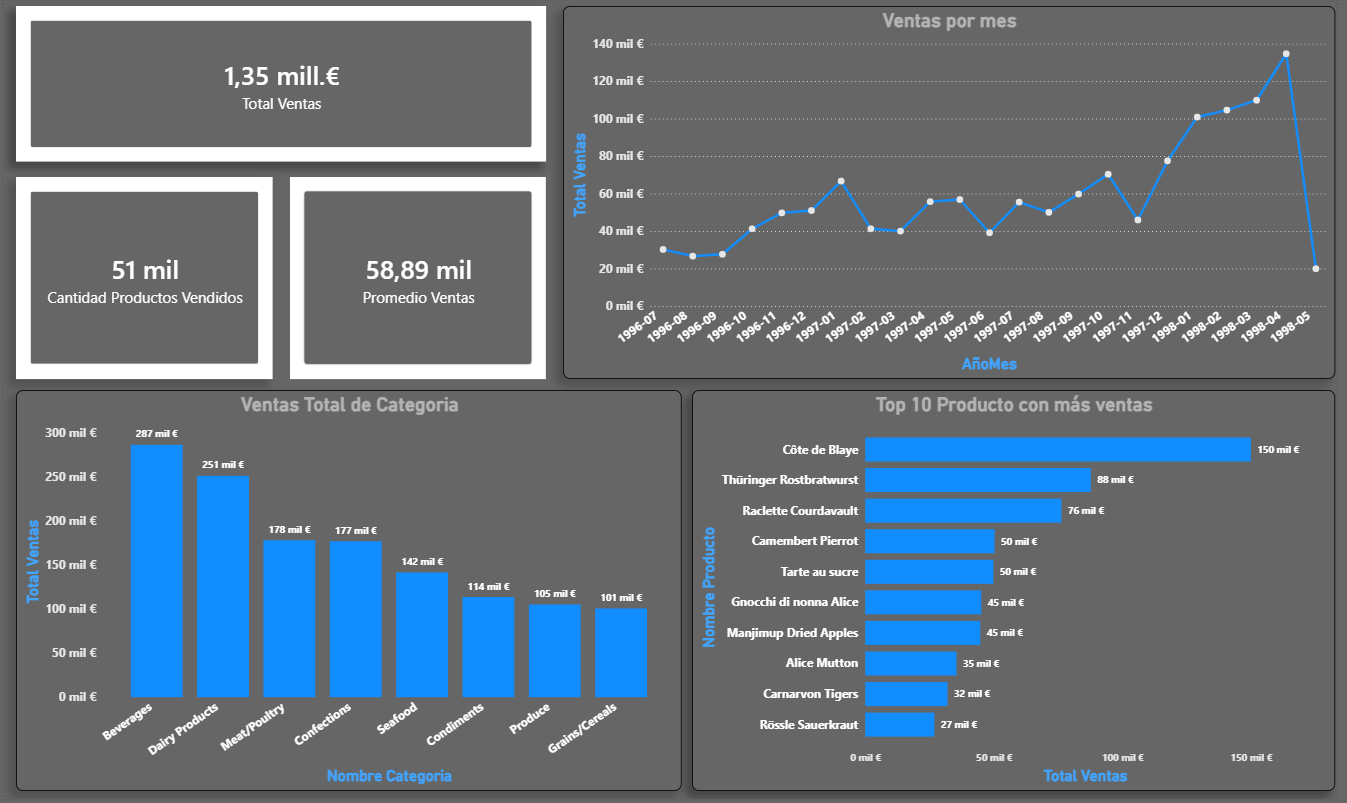

The dashboard page shown, as its layout file describes it:
{"tool":"powerbi","page":{"name":"Página 1","canvas":[1660,1000],"ordinal":0},"visuals":[{"type":"lineChart","title":"Ventas por mes","fields":{"Y":["DetalleOrden.TotalVentas"],"Category":["Calendario.AñoMes"]},"box":[443.9,11.2,1215.7,465.1],"z":0},{"type":"barChart","title":"Top 10 Producto con más ventas","fields":{"Category":["Producto.nombre"],"Y":["DetalleOrden.TotalVentas"]},"box":[857.9,490,801.7,500],"z":1000},{"type":"columnChart","title":"Ventas Total de Categoria ","fields":{"Category":["Categoria.nombre"],"Y":["DetalleOrden.TotalVentas"]},"box":[15,490,830.4,500],"z":2000},{"type":"cardVisual","fields":{"Data":["DetalleOrden.TotalVentas"]},"box":[15,11.2,415.2,224.4],"z":3000},{"type":"cardVisual","fields":{"Data":["DetalleOrden.TotalCantidad"]},"box":[15,251.9,415.2,224.4],"z":4000}]}

Visuals, with their boxes in screenshot pixels (x1, y1, x2, y2), scaled from the page's 1660x1000 canvas onto the 1347x803 screenshot:
"Ventas por mes" lineChart: region(360, 9, 1346, 382)
"Top 10 Producto con más ventas" barChart: region(696, 393, 1346, 795)
"Ventas Total de Categoria " columnChart: region(12, 393, 686, 795)
cardVisual - DetalleOrden.TotalVentas: region(12, 9, 349, 189)
cardVisual - DetalleOrden.TotalCantidad: region(12, 202, 349, 382)
